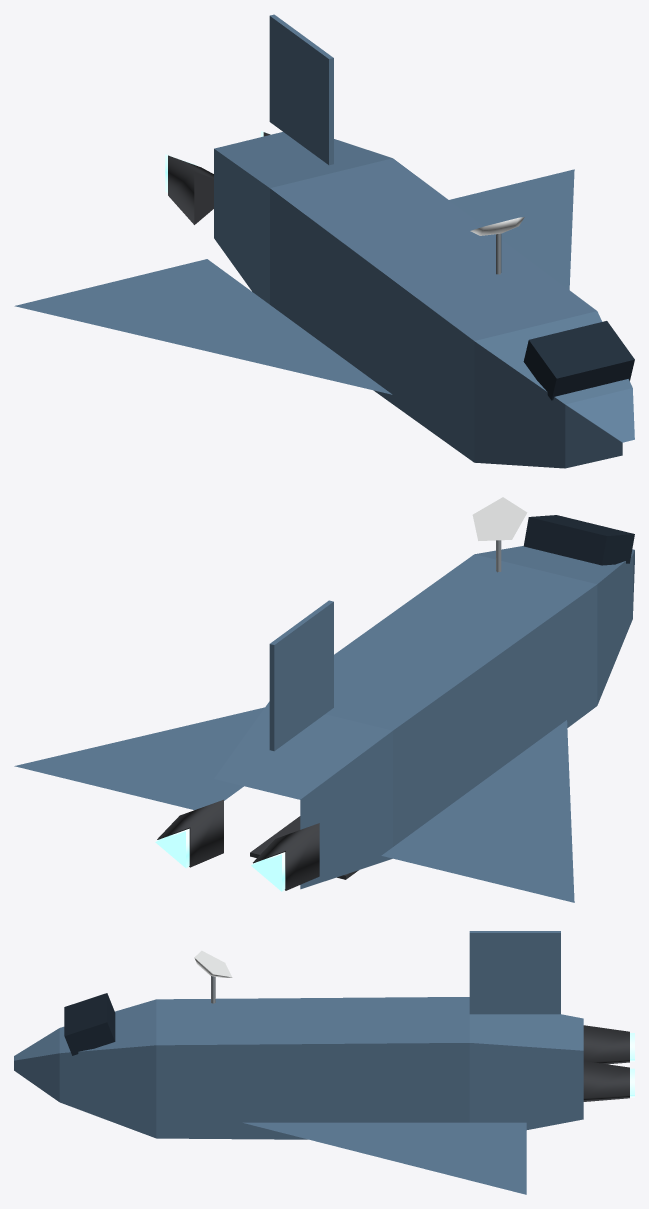
Rendered from space_ship_shuttle_mk5_lod2.glb.
The picture shows the model from 3 angles, top to bottom: view 1: azimuth 30°, elevation 25°; view 2: azimuth 150°, elevation 25°; view 3: azimuth 270°, elevation 25°; orthographic projection. The views are drawn at different scales.
Parts seen in each view (by area): view 1: body, engine_1, antenna_0; view 2: body, engine_1, engine_0, antenna_0; view 3: body, engine_0, engine_1, antenna_0.
Boxes of the visible parts, box(x1,y1,x2,y2) form: body: box(14, 14, 634, 468); engine_1: box(165, 154, 213, 224); antenna_0: box(470, 217, 524, 274); body: box(14, 515, 634, 902); engine_1: box(251, 823, 319, 891); engine_0: box(155, 799, 223, 868); antenna_0: box(472, 497, 527, 572); body: box(14, 931, 583, 1194); engine_0: box(583, 1061, 634, 1101); engine_1: box(583, 1025, 634, 1064); antenna_0: box(194, 950, 232, 1003).
Size of the model in its own units: 11.6 by 4.8 by 14.52.
